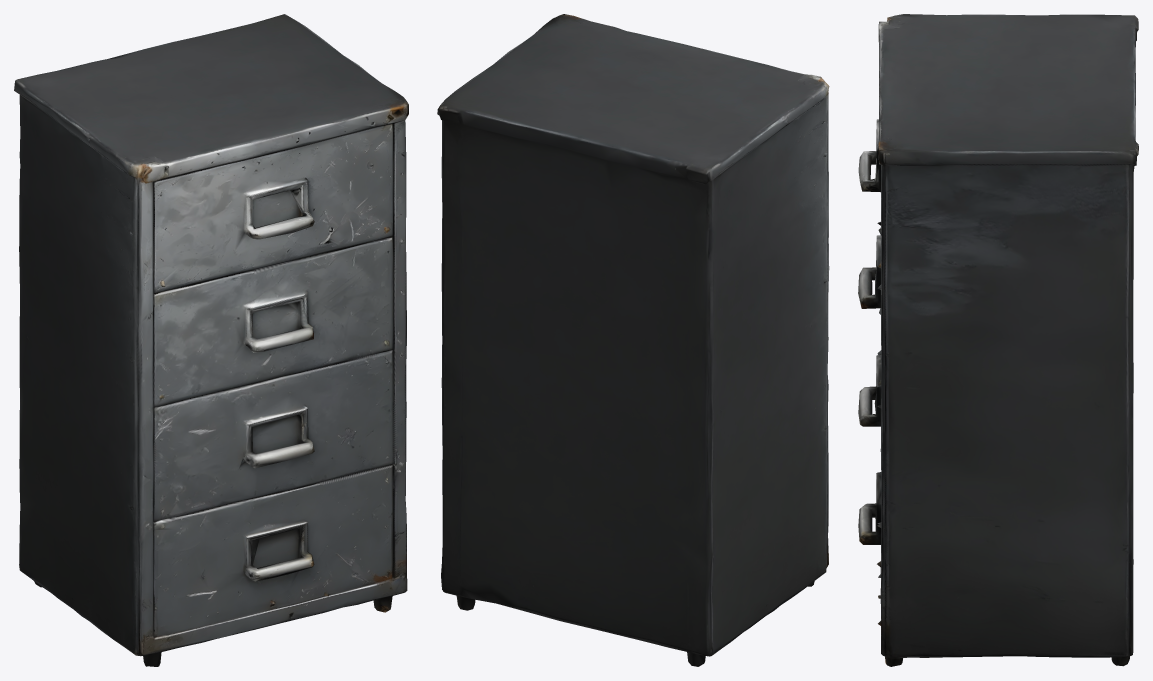
The model's file is filing_cabinet.fbx.
The picture shows the model from 3 angles, left to right: view 1: azimuth 30°, elevation 25°; view 2: azimuth 150°, elevation 25°; view 3: azimuth 270°, elevation 25°; orthographic projection. The views are drawn at different scales.
Parts seen in each view (by area): view 1: filing_cabinet; view 2: filing_cabinet; view 3: filing_cabinet.
Boxes of the visible parts, x1,y1,x2,y2 form: filing_cabinet: (14,14,408,666); filing_cabinet: (437,14,829,666); filing_cabinet: (858,14,1138,666).
Size of the model in its own units: 0.7551 by 1.32 by 0.6419.
Materials: 1 (1 with a texture image).
